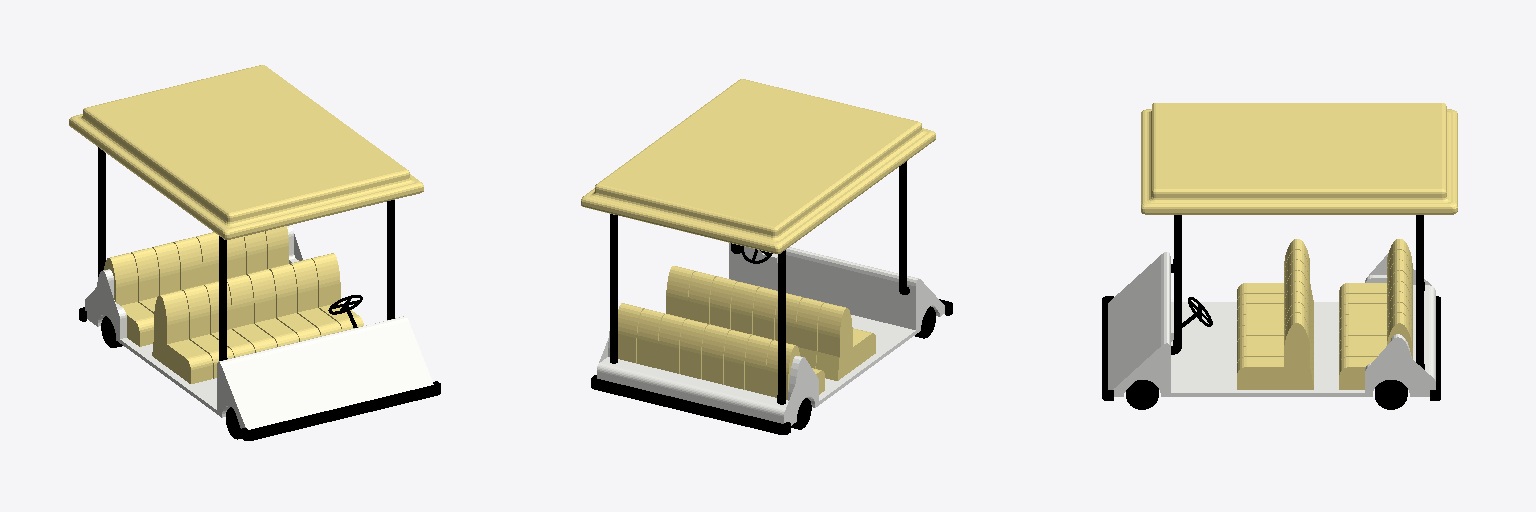
The picture shows the model from 3 angles: view 1: azimuth 30°, elevation 25°; view 2: azimuth 150°, elevation 25°; view 3: azimuth 270°, elevation 25°; orthographic projection.
Parts seen in each view (by area): view 1: CubeFBXASC046003; view 2: CubeFBXASC046003; view 3: CubeFBXASC046003.
Boxes of the visible parts, x1=… form: CubeFBXASC046003: x1=69, y1=65, x2=440, y2=440; CubeFBXASC046003: x1=581, y1=79, x2=952, y2=434; CubeFBXASC046003: x1=1102, y1=103, x2=1457, y2=409.
Bounding box in the file's own units: 4.33 × 4.55 × 6.66.
4 materials, 2 textured.